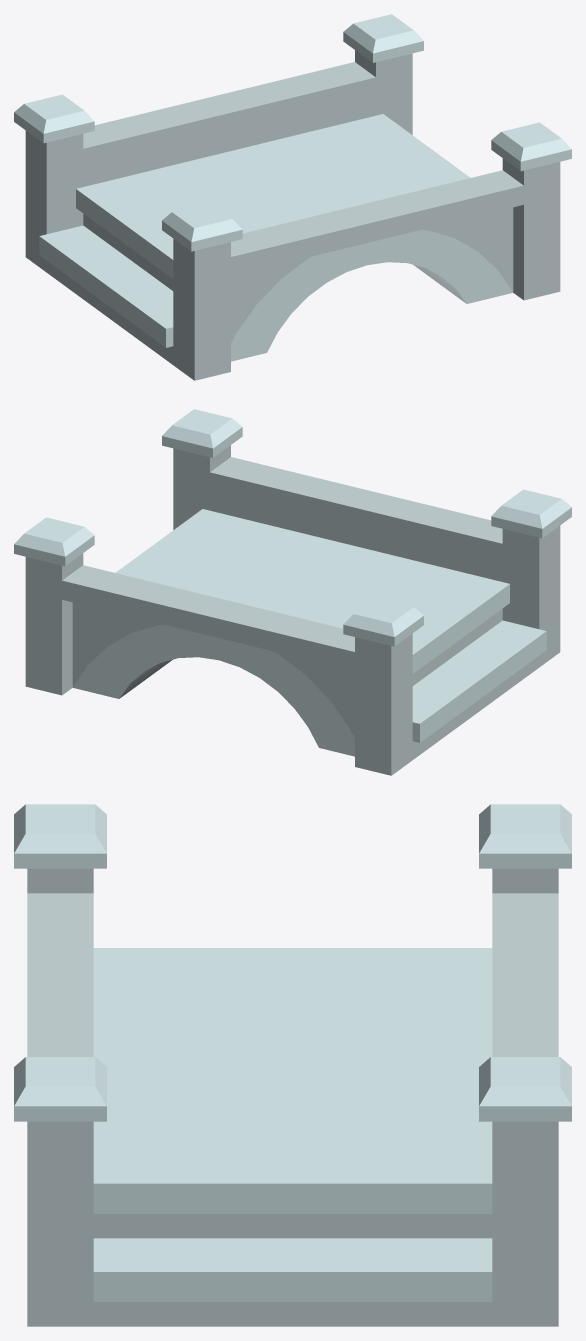
The model's file is bridge_stoneRoundNarrow.glb.
The picture shows the model from 3 angles, top to bottom: view 1: azimuth 30°, elevation 25°; view 2: azimuth 150°, elevation 25°; view 3: azimuth 270°, elevation 25°; orthographic projection. The views are drawn at different scales.
Visible parts, largest first — view 1: bridge_stoneRoundNarrow; view 2: bridge_stoneRoundNarrow; view 3: bridge_stoneRoundNarrow.
Boxes of the visible parts, <box> form: bridge_stoneRoundNarrow: <box>14,14,571,380</box>; bridge_stoneRoundNarrow: <box>14,409,571,775</box>; bridge_stoneRoundNarrow: <box>14,804,571,1326</box>.
Bounding box in the file's own units: 1.04 × 0.4 × 0.84.
